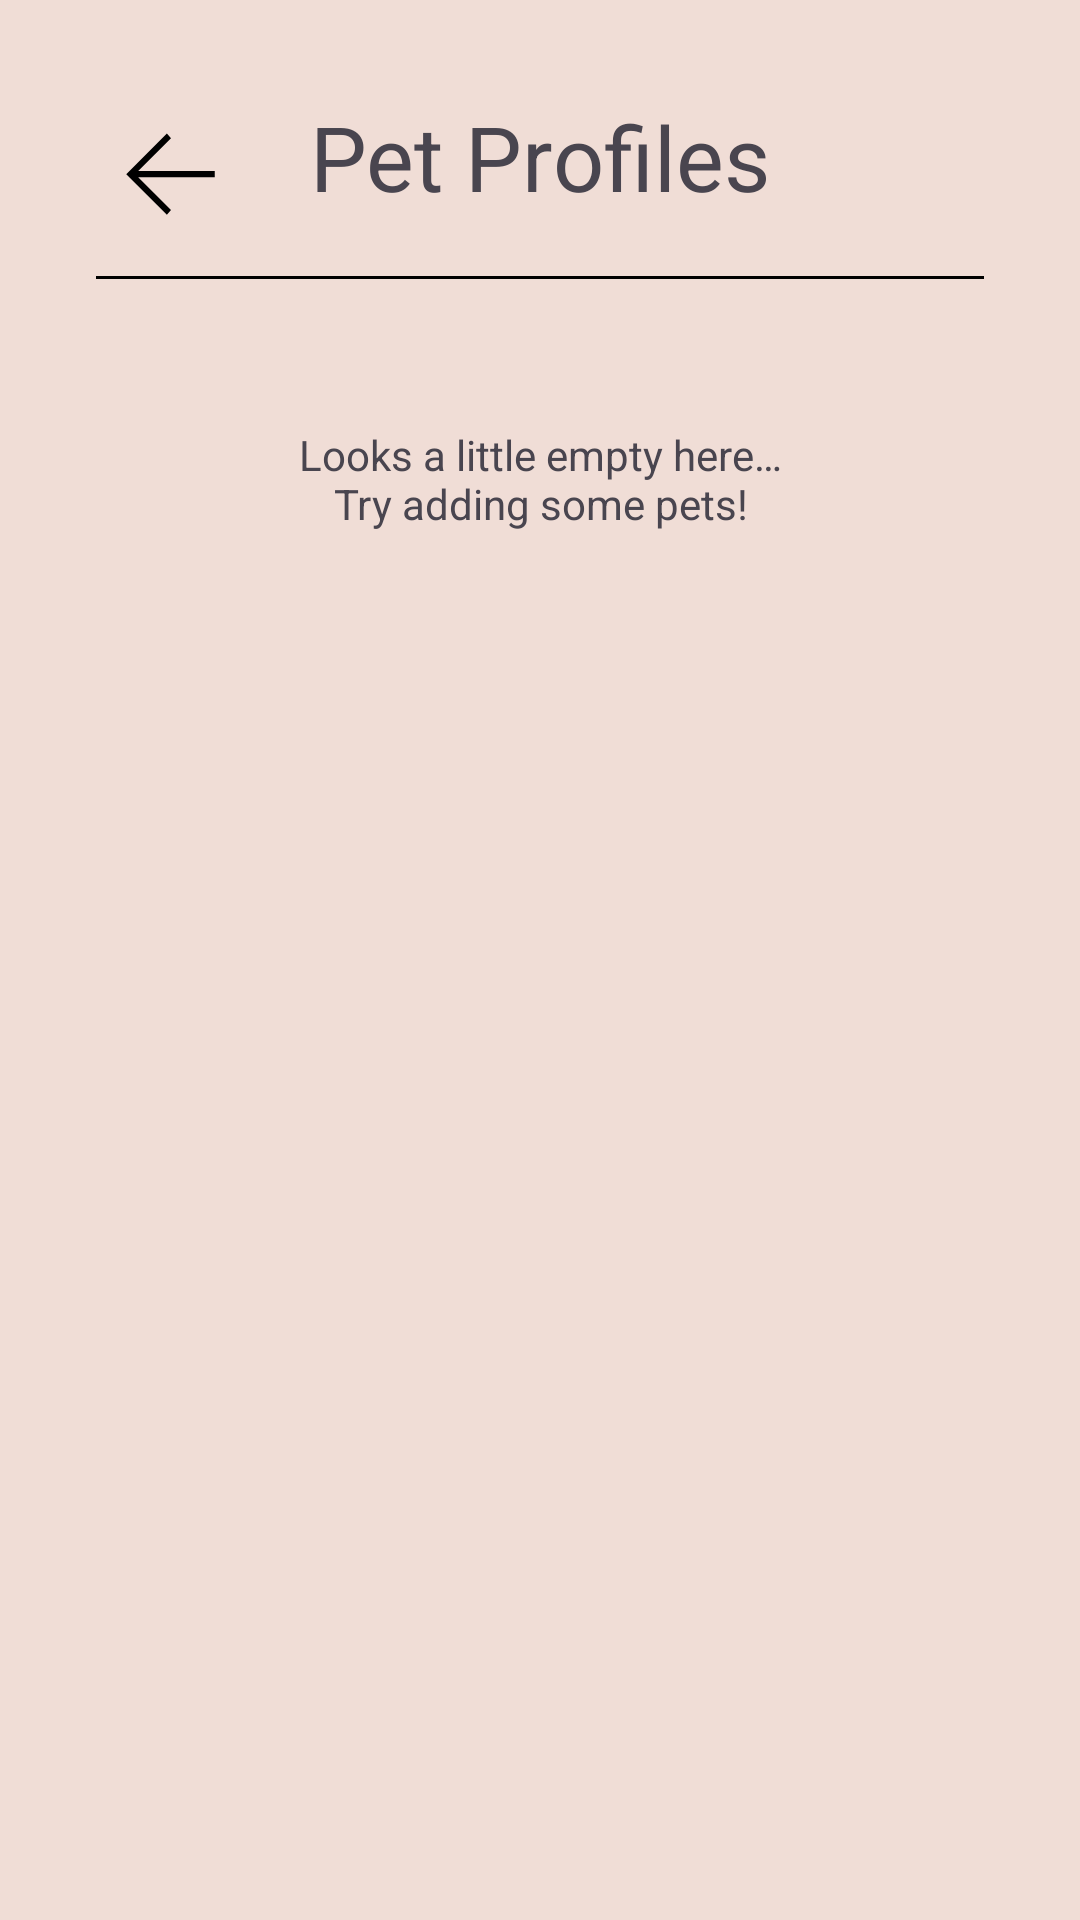

Icons on this 1080×1920 Android screen, each with the point to tap as (x=x, y=y):
Back button: (x=170, y=174)
